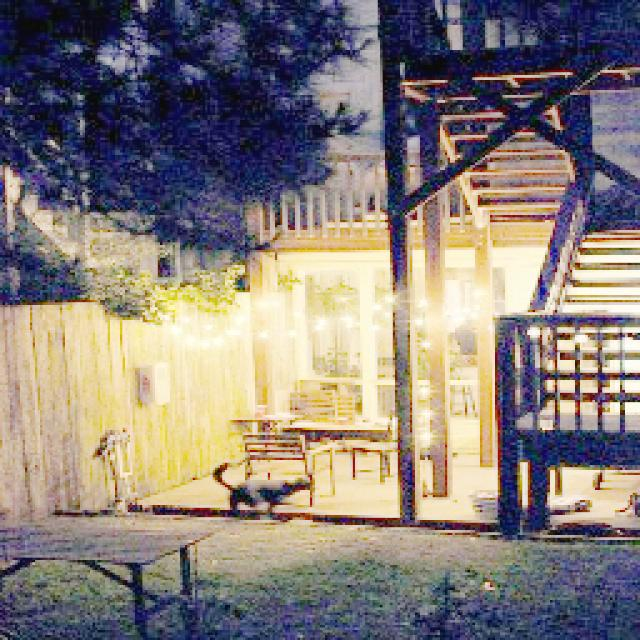cat: (209, 459, 319, 524)
